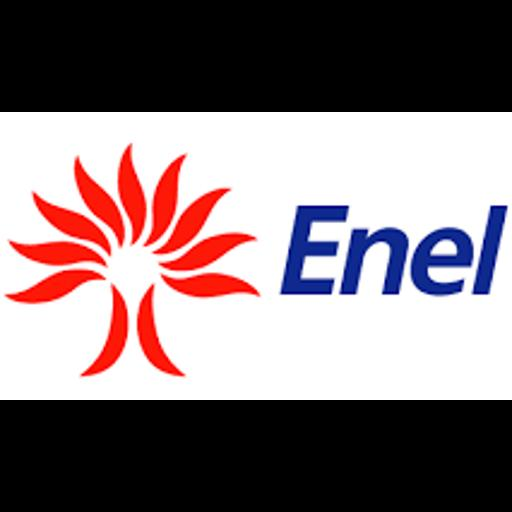Enel Energia S-p-A: (0, 112, 512, 400)
